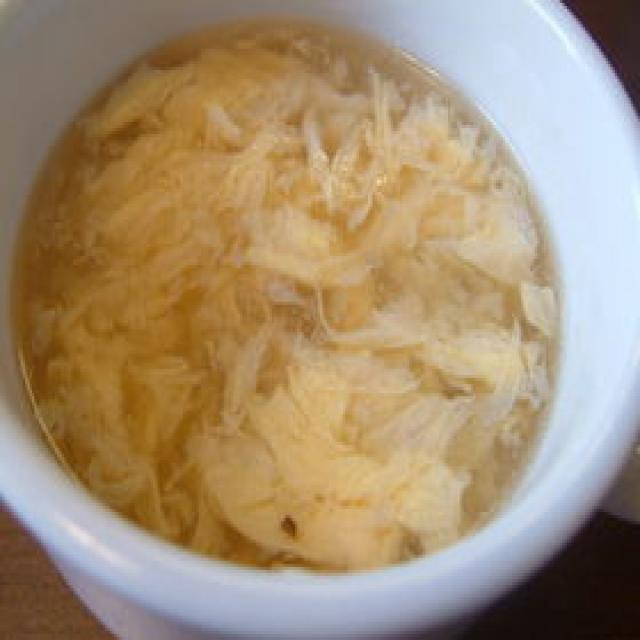汤锅炖物: (0, 0, 635, 634)
